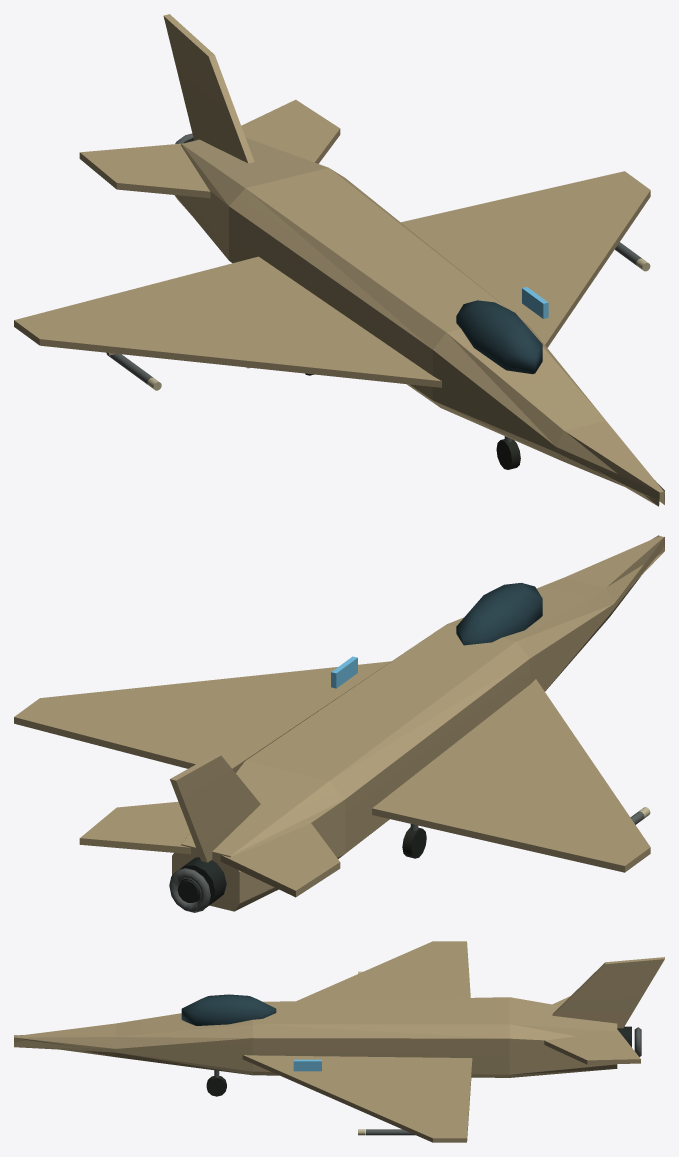
Rendered from bomber-lod.glb.
The picture shows the model from 3 angles, top to bottom: view 1: azimuth 30°, elevation 25°; view 2: azimuth 150°, elevation 25°; view 3: azimuth 270°, elevation 25°; orthographic projection. The views are drawn at different scales.
Visible parts, largest first — view 1: armor, equipment; view 2: armor, equipment (×2); view 3: armor, equipment (×2), marking.
Part boxes in pixels (x1,y1,x2,y2): armor: (14,14,664,506); equipment: (106,133,650,390); armor: (14,535,664,911); equipment (×2): (169,582,650,912); armor: (14,941,664,1142); equipment (×2): (181,971,641,1135); marking: (293,1059,321,1071).
Bounding box in the file's own units: 8.2 × 2.64 × 11.45.
